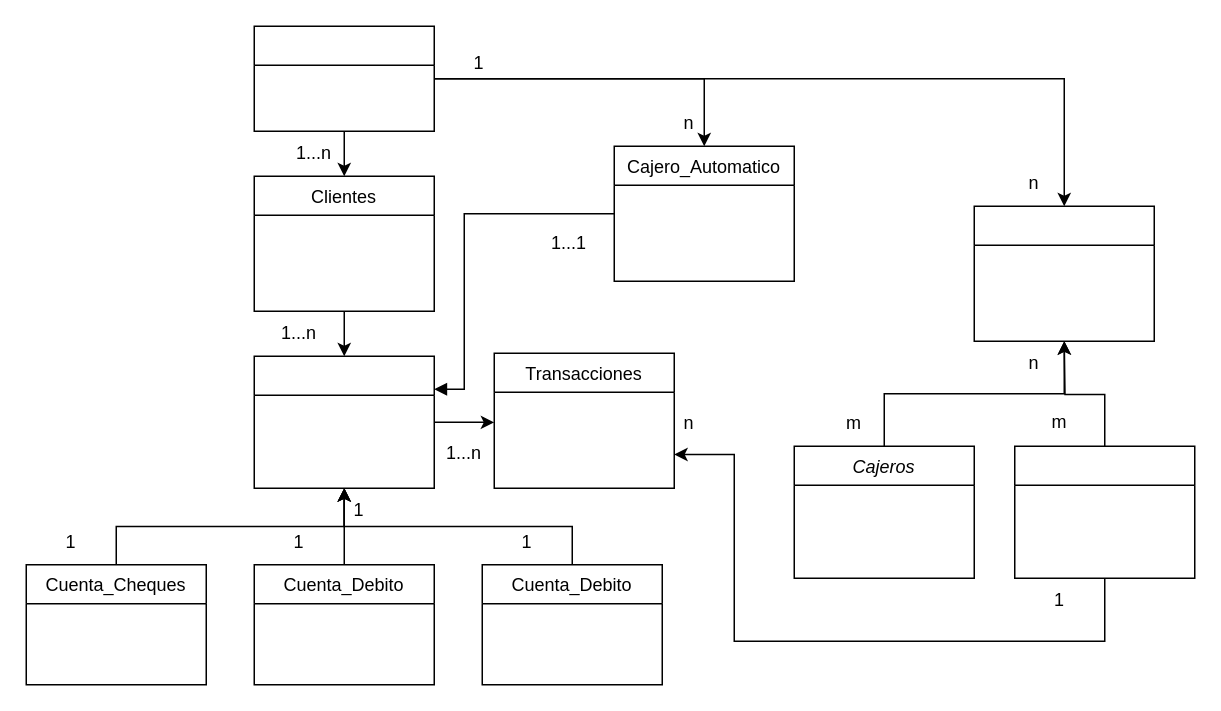
Some shapes in this 1221 by 711 pixel diagram are drawn without their labels. Here are the shapes that lost their labels. From the top down, the centre of each, then its label:
(343,78): Banco
(1063,273): Empleados
(343,421): Cuenta
(1104,511): Ejecutivos
